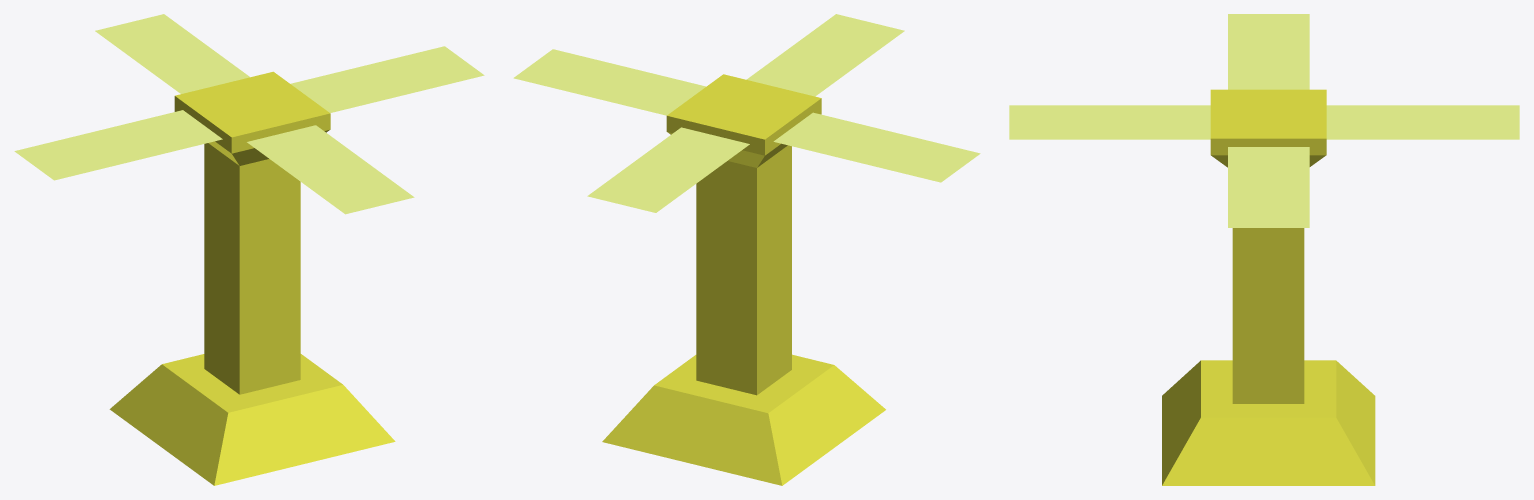
The model's file is bamboo (1).glb.
The picture shows the model from 3 angles, left to right: view 1: azimuth 30°, elevation 25°; view 2: azimuth 150°, elevation 25°; view 3: azimuth 270°, elevation 25°; orthographic projection. The views are drawn at different scales.
Visible parts, largest first — view 1: body, blades; view 2: body, blades; view 3: body, blades.
Boxes of the visible parts, left/top/right/bottom form: body: left=109, top=71, right=395, bottom=485; blades: left=14, top=14, right=484, bottom=214; body: left=602, top=74, right=885, bottom=485; blades: left=513, top=14, right=980, bottom=212; body: left=1162, top=89, right=1375, bottom=485; blades: left=1009, top=14, right=1519, bottom=227.
Size of the model in its own units: 0.3742 by 0.2665 by 0.3773.
